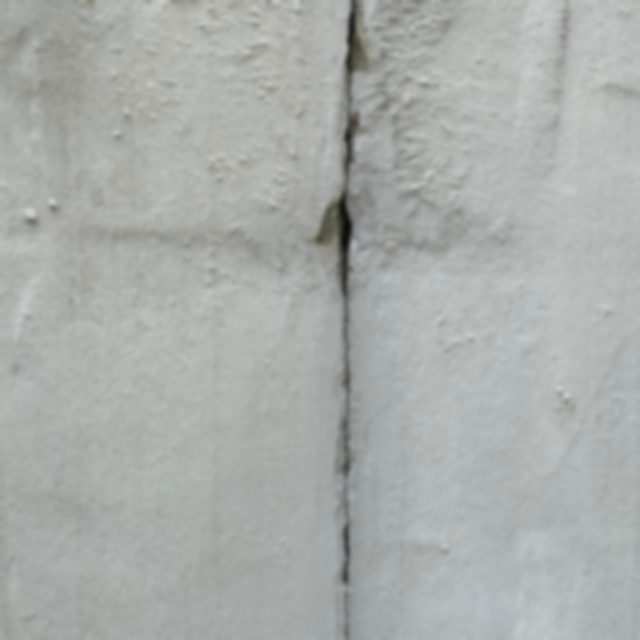SurfaceCrack: (274, 0, 408, 639)
